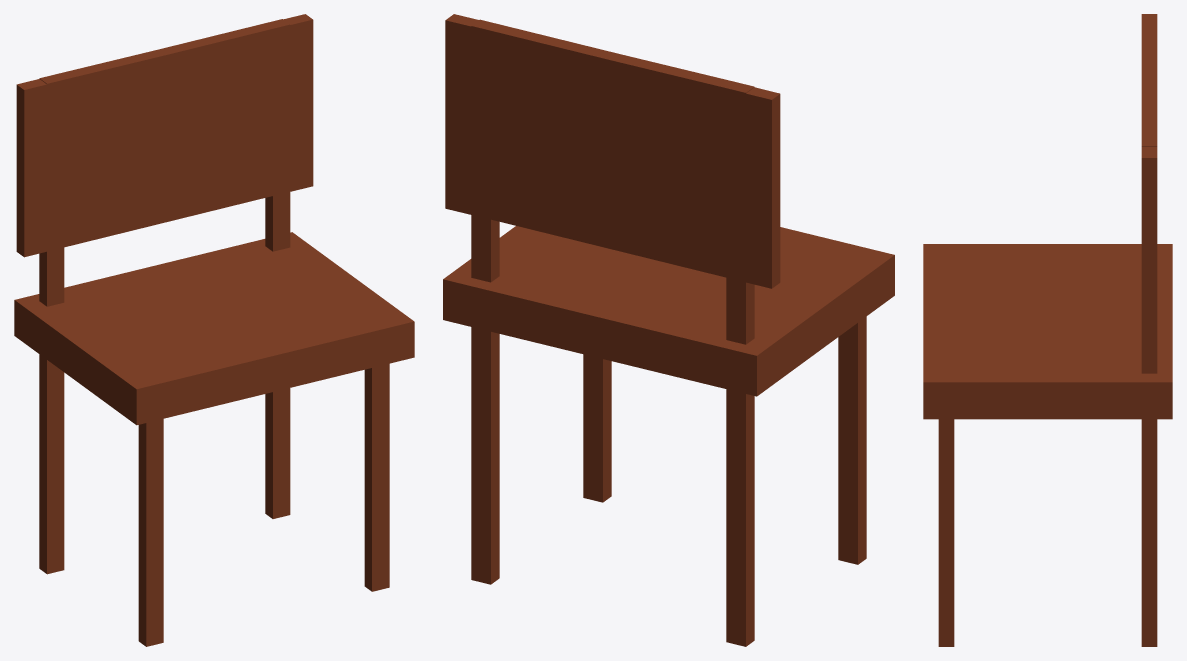
The model's file is chair.fbx.
The picture shows the model from 3 angles, left to right: view 1: azimuth 30°, elevation 25°; view 2: azimuth 150°, elevation 25°; view 3: azimuth 270°, elevation 25°; orthographic projection. The views are drawn at different scales.
Parts seen in each view (by area): view 1: Cube; view 2: Cube; view 3: Cube.
Boxes of the visible parts, x1,y1,x2,y2 form: Cube: (14,14,414,646); Cube: (443,14,894,646); Cube: (923,14,1172,646).
Bounding box in the file's own units: 429 × 696 × 314.
